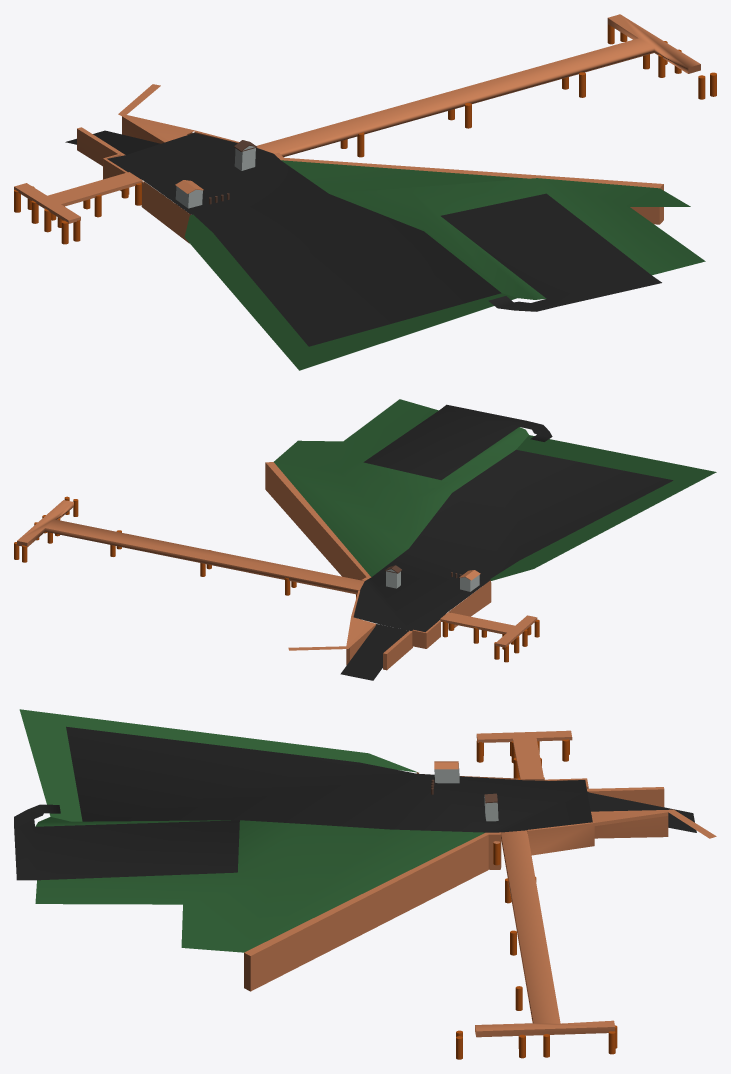
File: uboatramp.glb
3 views of the same model, one above another, from view 1: azimuth 30°, elevation 25°; view 2: azimuth 150°, elevation 25°; view 3: azimuth 270°, elevation 25° (orthographic). The views are drawn at different scales.
Visible parts, largest first — view 1: Boat Launch, Plane.003, Plane.001; view 2: Boat Launch; view 3: Boat Launch, Plane.003.
Boxes of the visible parts, bbox=[...] form: Boat Launch: bbox=[14, 14, 716, 370]; Plane.003: bbox=[175, 180, 203, 208]; Plane.001: bbox=[234, 140, 257, 170]; Boat Launch: bbox=[14, 399, 716, 680]; Boat Launch: bbox=[14, 709, 716, 1059]; Plane.003: bbox=[434, 761, 459, 783].
Bounding box in the file's own units: 0.2455 × 0.0237 × 0.2375.
